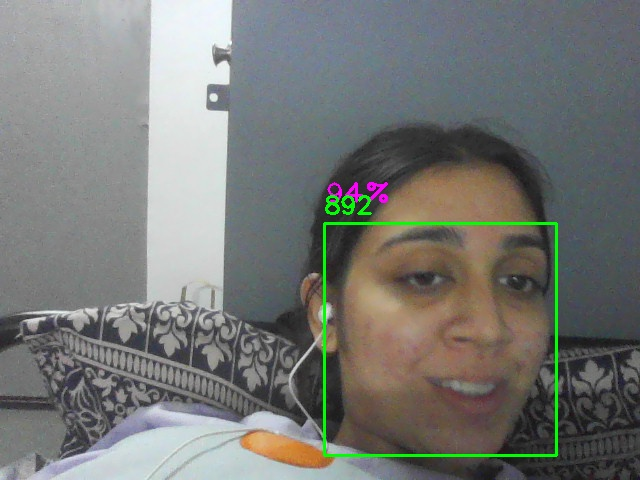real: (324, 223, 557, 456)
